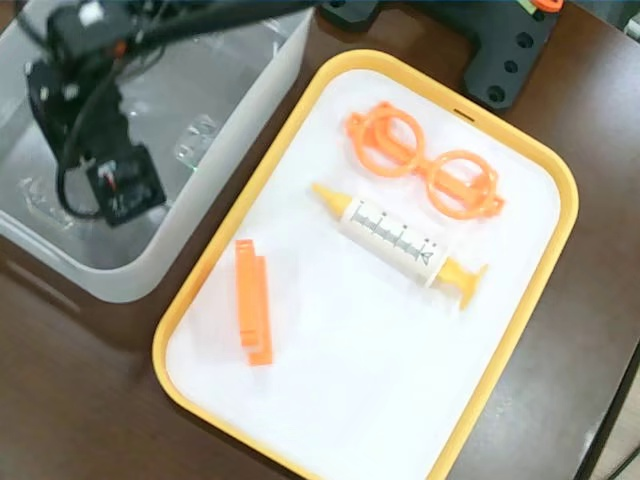syringe: (309, 181, 489, 310)
